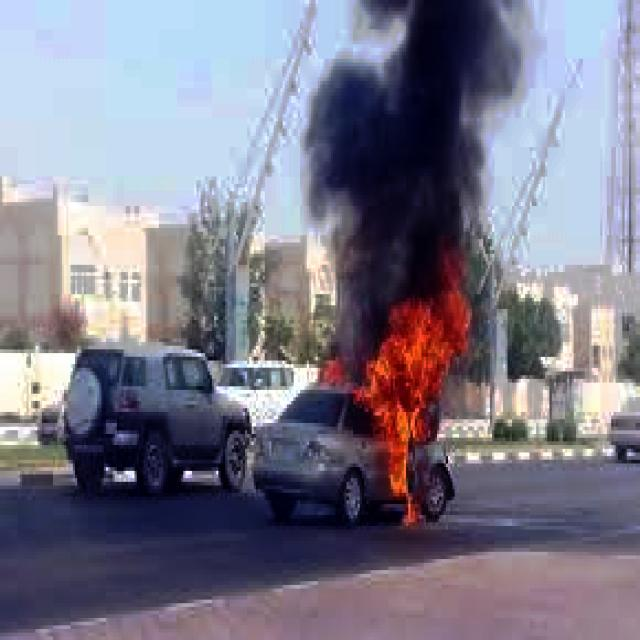api: (332, 244, 484, 527)
